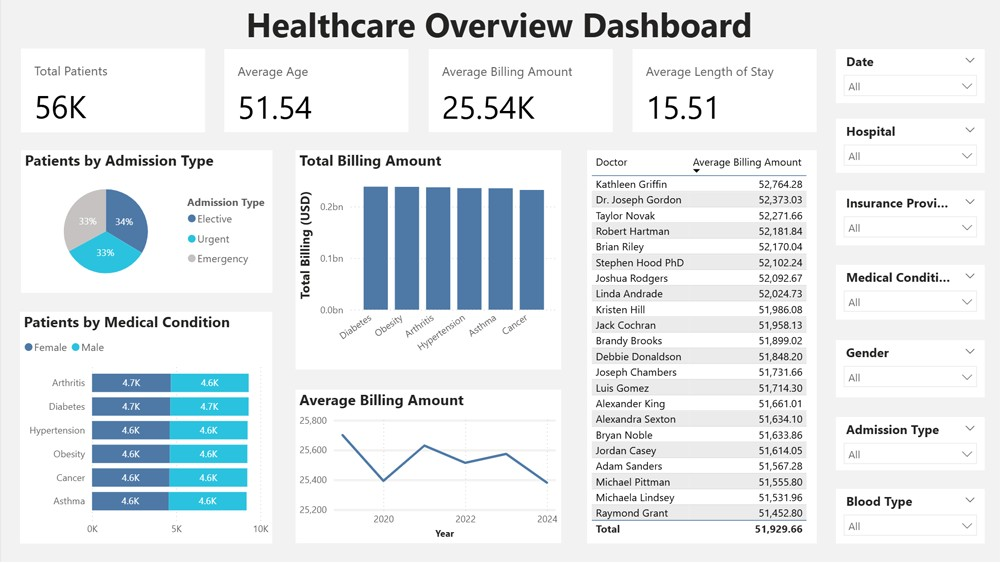

Layout of this report page (visuals, bound fields, positions):
{"tool":"powerbi","page":{"name":"Page 1","canvas":[1280,720],"ordinal":0},"visuals":[{"type":"textbox","box":[0,0,1280,66.1],"z":0},{"type":"cardVisual","fields":{"Data":["healthcare_dataset.Total Patients"]},"box":[25.4,65.4,234.6,106.8],"z":1000},{"type":"cardVisual","fields":{"Data":["healthcare_dataset.Average Age"]},"box":[285.5,66.1,234.6,106.1],"z":2000},{"type":"cardVisual","fields":{"Data":["healthcare_dataset.Average Billing Amount"]},"box":[546.3,66.1,234.6,106.1],"z":3000},{"type":"cardVisual","fields":{"Data":["healthcare_dataset.Average Length of Stay"]},"box":[806.4,66.1,234.6,106.1],"z":4000},{"type":"pieChart","title":"Patients by Admission Type","fields":{"Y":["healthcare_dataset.Total Patients"],"Category":["healthcare_dataset.Admission Type"]},"box":[25.4,194.7,321.1,182.3],"z":5000},{"type":"barChart","title":"Patients by Medical Condition","fields":{"Series":["healthcare_dataset.Gender"],"Category":["healthcare_dataset.Medical Condition"],"Y":["healthcare_dataset.Total Patients"]},"box":[24.7,401,321.8,295.7],"z":6000},{"type":"columnChart","title":"Total Billing Amount","fields":{"Y":["healthcare_dataset.Billing Amount"],"Category":["healthcare_dataset.Medical Condition"]},"box":[376.3,194.7,339.3,279.7],"z":6001},{"type":"lineChart","title":"Average Billing Amount","fields":{"Category":["healthcare_dataset.Date of Admission.Variation.Date Hierarchy.Year","healthcare_dataset.Date of Admission.Variation.Date Hierarchy.Quarter","healthcare_dataset.Date of Admission.Variation.Date Hierarchy.Month","healthcare_dataset.Date of Admission.Variation.Date Hierarchy.Day"],"Y":["healthcare_dataset.Average Billing Amount"]},"box":[376.3,500.5,339.3,196.1],"z":6002},{"type":"slicer","fields":{"Values":["healthcare_dataset.Date of Admission.Variation.Date Hierarchy.Year","healthcare_dataset.Date of Admission.Variation.Date Hierarchy.Quarter","healthcare_dataset.Date of Admission.Variation.Date Hierarchy.Month","healthcare_dataset.Date of Admission.Variation.Date Hierarchy.Day"]},"box":[1065.7,66.1,190.3,69],"z":6003},{"type":"slicer","fields":{"Values":["healthcare_dataset.Hospital"]},"box":[1065.7,154.7,190.3,69],"z":6004},{"type":"slicer","fields":{"Values":["healthcare_dataset.Insurance Provider"]},"box":[1065.7,246.3,190.3,69.7],"z":6005},{"type":"slicer","fields":{"Values":["healthcare_dataset.Medical Condition"]},"box":[1065.7,341.4,190.3,70.5],"z":6006},{"type":"slicer","fields":{"Values":["healthcare_dataset.Gender"]},"box":[1065.7,437.3,190.3,73.4],"z":6007},{"type":"slicer","fields":{"Values":["healthcare_dataset.Admission Type"]},"box":[1065.7,535.4,190.3,68.3],"z":6008},{"type":"slicer","fields":{"Values":["healthcare_dataset.Blood Type"]},"box":[1065.7,626.9,190.3,69.7],"z":6009},{"type":"tableEx","fields":{"Values":["healthcare_dataset.Doctor","healthcare_dataset.Average Billing Amount"]},"box":[748.2,194.7,292.8,502],"z":6010}]}

Visuals, with their boxes in screenshot pixels (x1, y1, x2, y2), scaled from the page's 1280x720 canvas onto the 1000x563 screenshot:
textbox: detection(0, 0, 999, 52)
cardVisual - healthcare_dataset.Total Patients: detection(20, 51, 203, 135)
cardVisual - healthcare_dataset.Average Age: detection(223, 52, 406, 135)
cardVisual - healthcare_dataset.Average Billing Amount: detection(427, 52, 610, 135)
cardVisual - healthcare_dataset.Average Length of Stay: detection(630, 52, 813, 135)
"Patients by Admission Type" pieChart: detection(20, 152, 271, 295)
"Patients by Medical Condition" barChart: detection(19, 314, 271, 545)
"Total Billing Amount" columnChart: detection(294, 152, 559, 371)
"Average Billing Amount" lineChart: detection(294, 391, 559, 545)
slicer - healthcare_dataset.Date of Admission.Variation.Date Hierarchy.Year x healthcare_dataset.Date of Admission.Variation.Date Hierarchy.Quarter: detection(833, 52, 981, 106)
slicer - healthcare_dataset.Hospital: detection(833, 121, 981, 175)
slicer - healthcare_dataset.Insurance Provider: detection(833, 193, 981, 247)
slicer - healthcare_dataset.Medical Condition: detection(833, 267, 981, 322)
slicer - healthcare_dataset.Gender: detection(833, 342, 981, 399)
slicer - healthcare_dataset.Admission Type: detection(833, 419, 981, 472)
slicer - healthcare_dataset.Blood Type: detection(833, 490, 981, 545)
tableEx - healthcare_dataset.Doctor x healthcare_dataset.Average Billing Amount: detection(585, 152, 813, 545)
